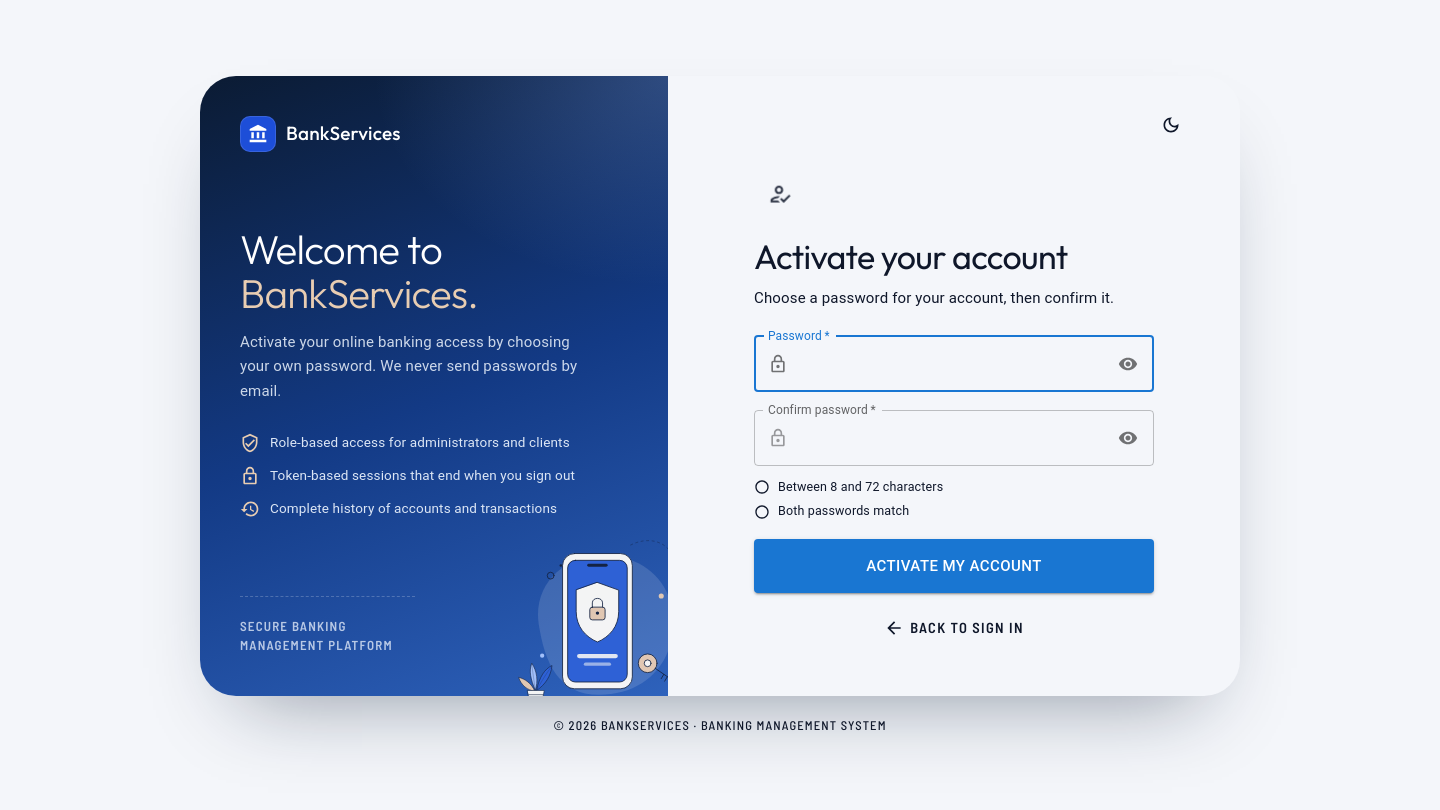
Test case: ActivateAccount page › does not call the API when the passwords differ
Type "ElisePass123" into the password field labelled "Password *" at (950,364), box [796,336,1105,392]
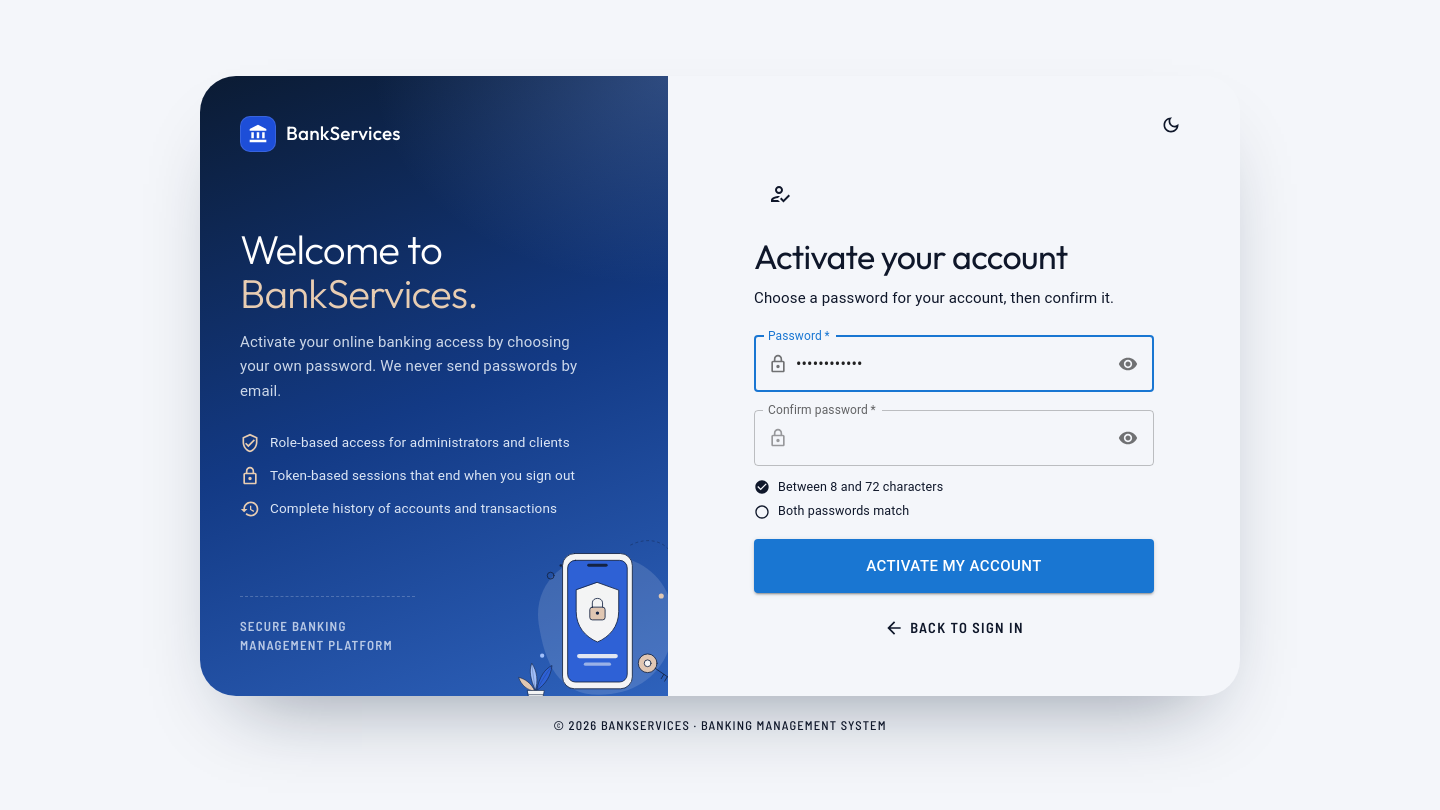
Type "Different123" into the password field labelled "Confirm password *" at (950,438), box [796,410,1105,466]
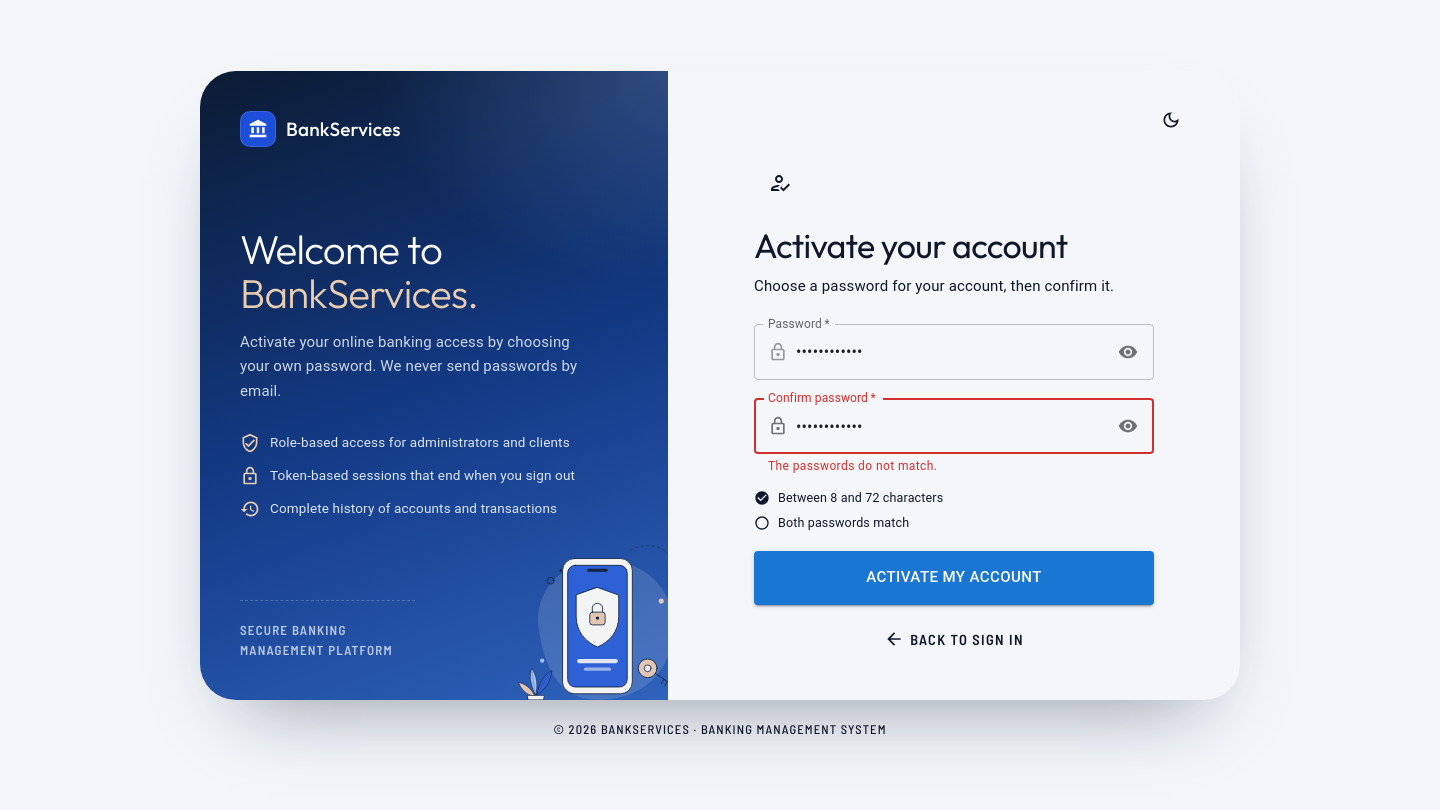
Click the button "Activate my account" at (954,578), box [754,551,1154,605]
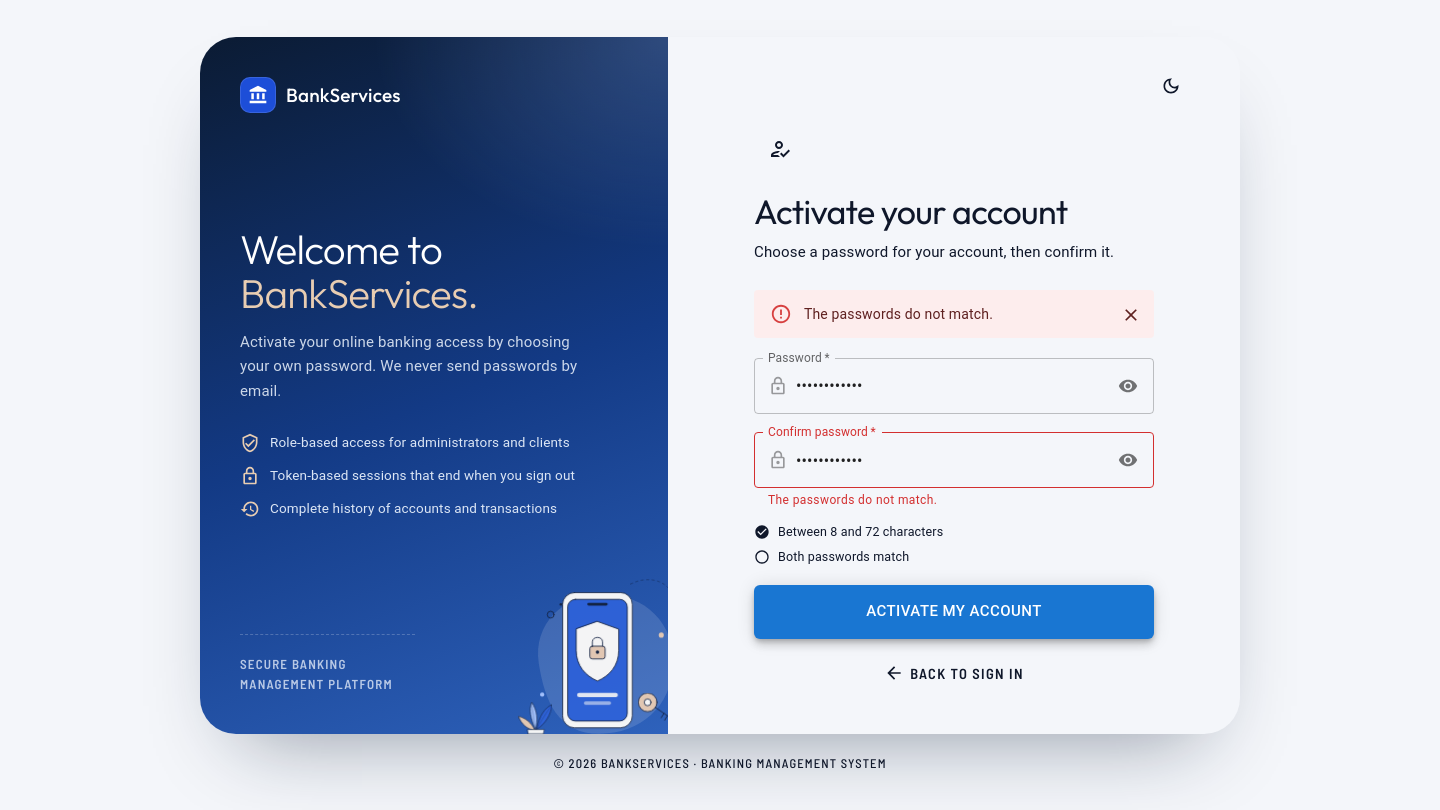
Now the 1st text "The passwords do not match." is shown, box [804,306,993,322]
